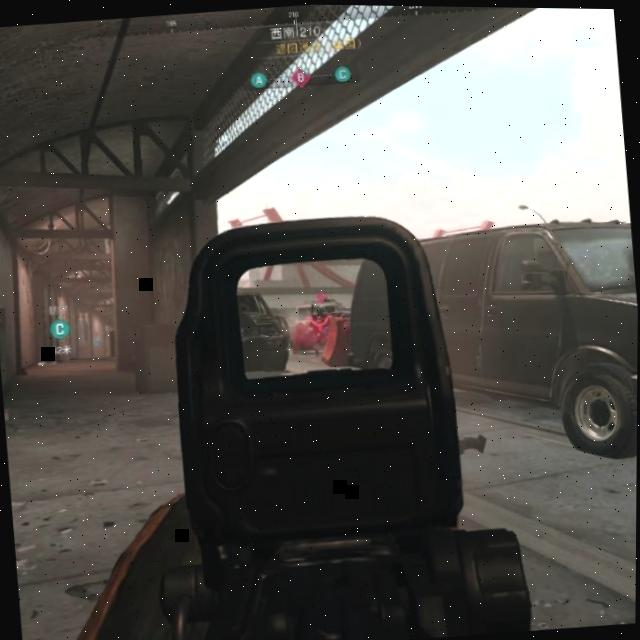MW2_body: (303, 289, 334, 354)
